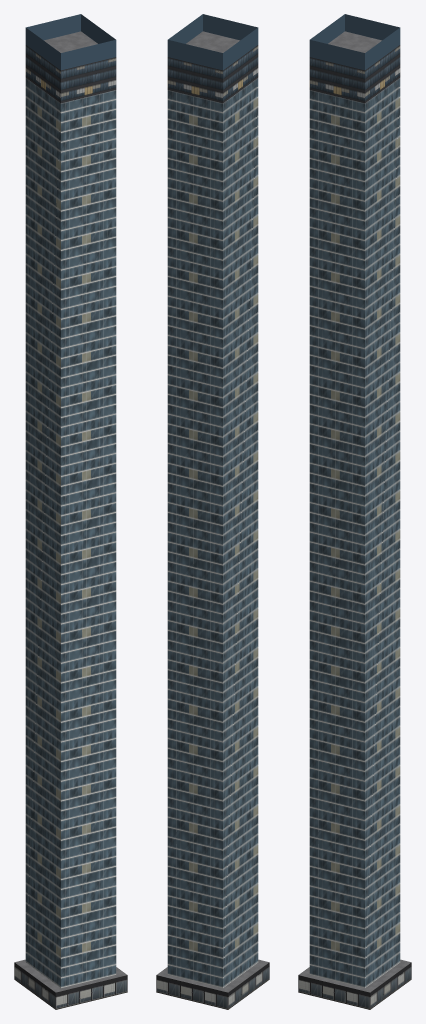
File: 051_pencil_glass.glb
3 renders of one model, left to right at view 1: azimuth 30°, elevation 25°; view 2: azimuth 150°, elevation 25°; view 3: azimuth 330°, elevation 25°, orthographic.
Parts seen in each view (by area): view 1: 051_pencil_glass; view 2: 051_pencil_glass; view 3: 051_pencil_glass.
Boxes of the visible parts, <box> form: 051_pencil_glass: <box>14,14,127,1009</box>; 051_pencil_glass: <box>156,14,269,1009</box>; 051_pencil_glass: <box>298,14,411,1009</box>.
Bounding box in the file's own units: 26 × 329 × 26.
5 materials, 4 textured.
